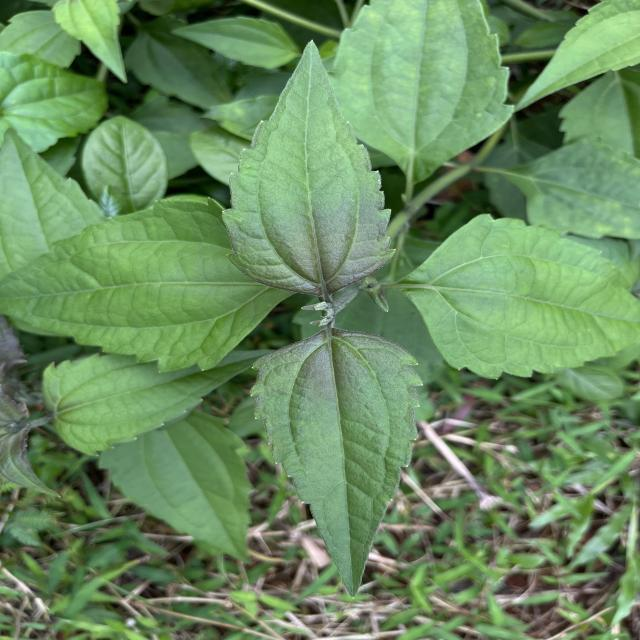Chromolaena odorata: (244, 321, 429, 603), (216, 36, 402, 299)
